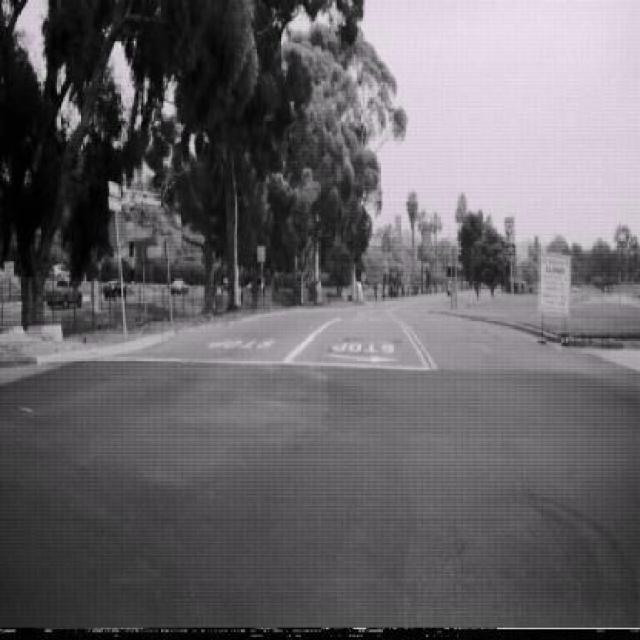speedLimit30: (503, 214, 517, 245)
